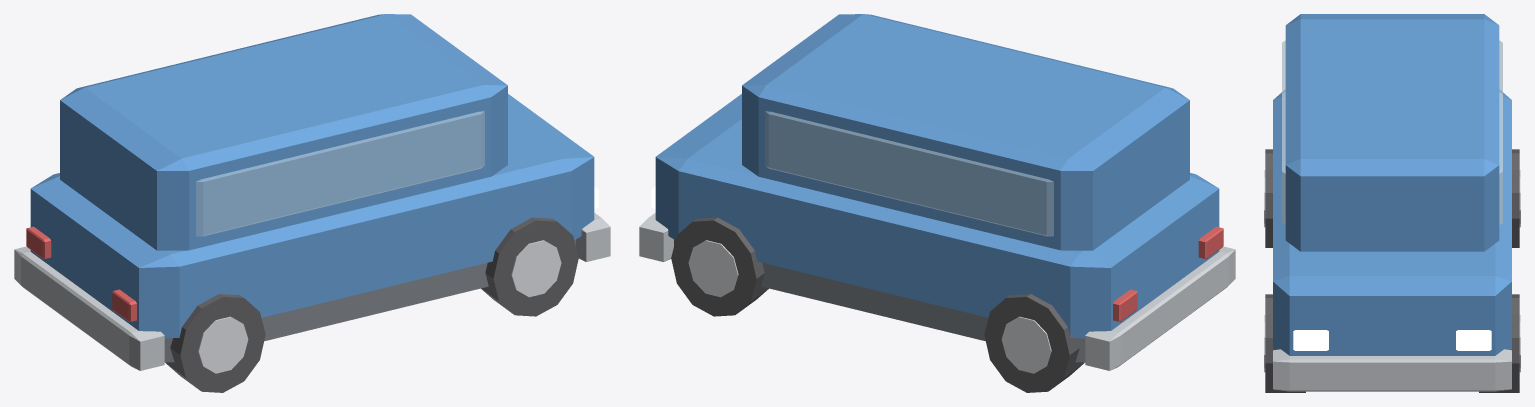
File: b03_two_door_trail_suv.glb
3 views of the same model, side by side, from view 1: azimuth 30°, elevation 25°; view 2: azimuth 150°, elevation 25°; view 3: azimuth 270°, elevation 25° (orthographic). The views are drawn at different scales.
Parts seen in each view (by area): view 1: b03_two_door_trail_suv; view 2: b03_two_door_trail_suv; view 3: b03_two_door_trail_suv.
Part boxes in pixels (x1=…): b03_two_door_trail_suv: x1=14, y1=14, x2=610, y2=392; b03_two_door_trail_suv: x1=639, y1=14, x2=1235, y2=392; b03_two_door_trail_suv: x1=1264, y1=14, x2=1520, y2=392.
Size of the model in its own units: 4.45 by 2.03 by 2.2.
